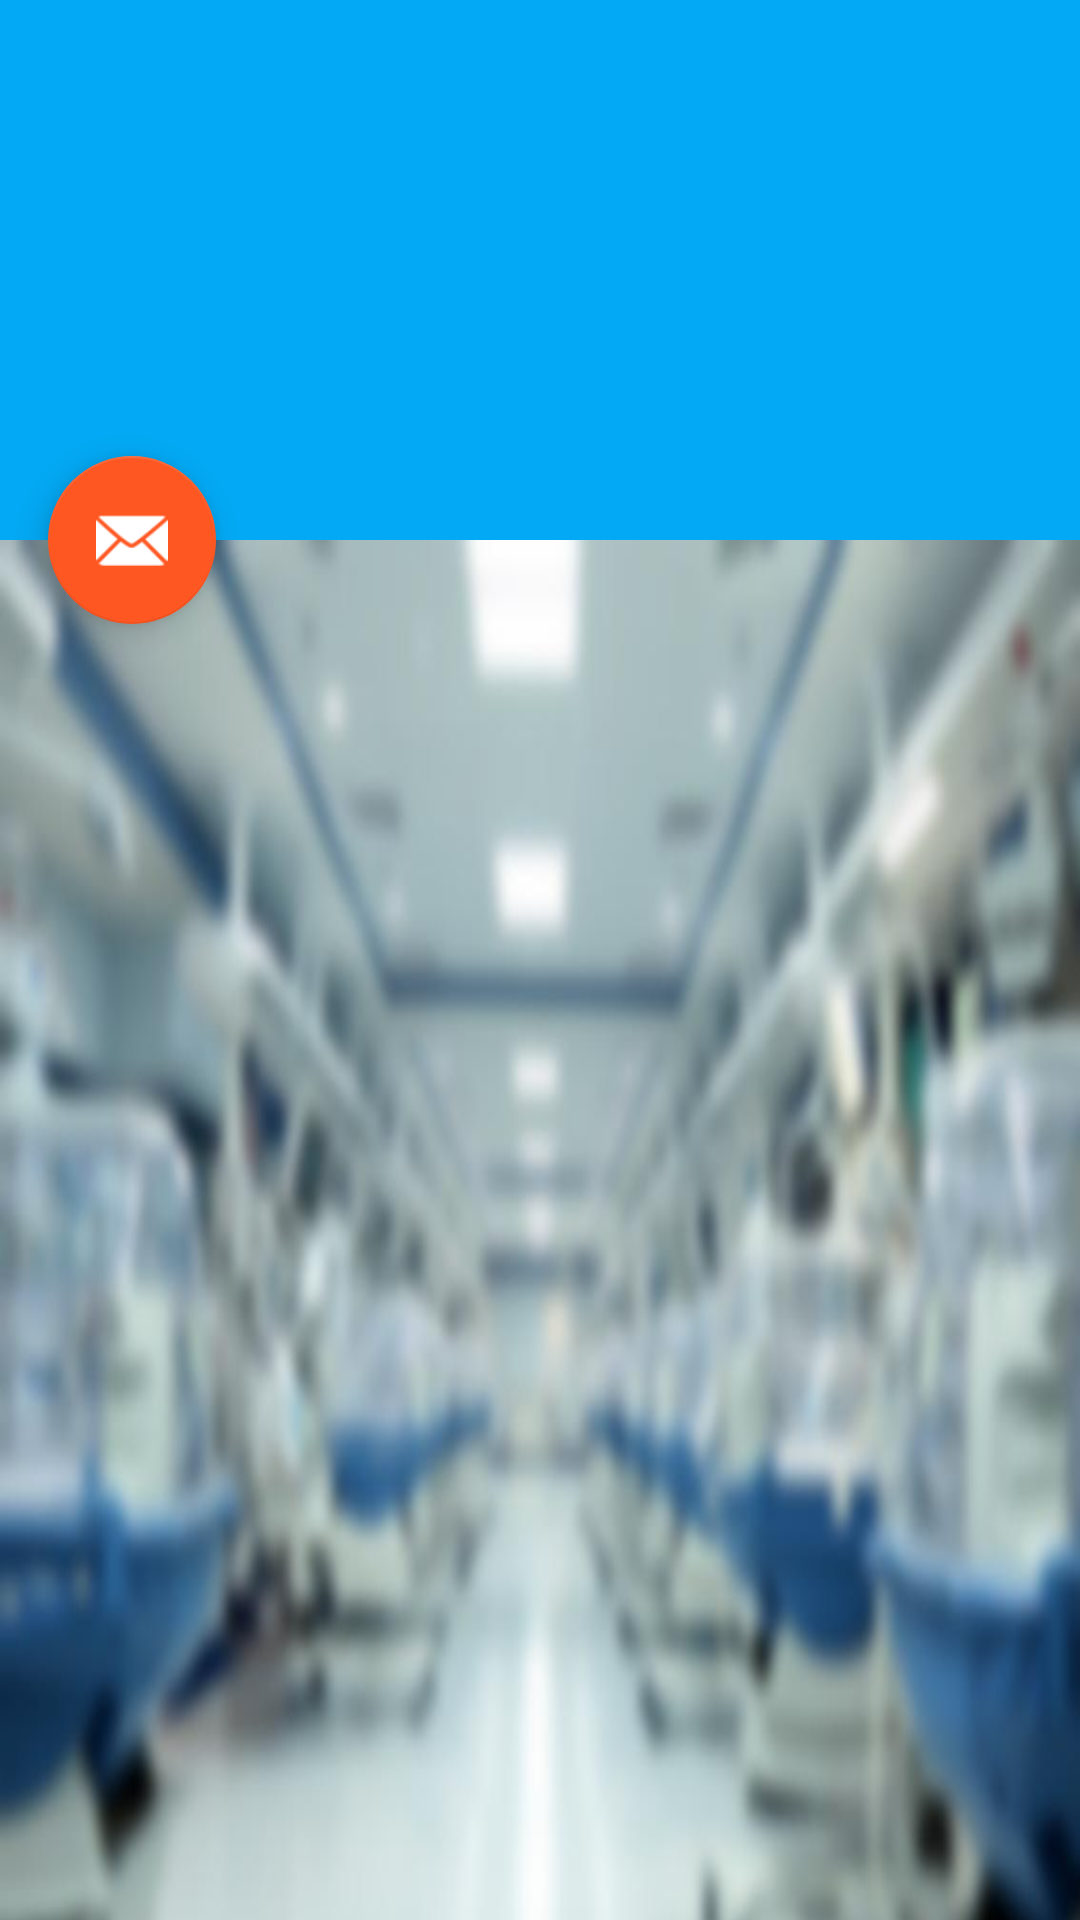

Screen size 1080×1920. Icon name, then its center in pixels as [x,y]:
email: [132,540]
